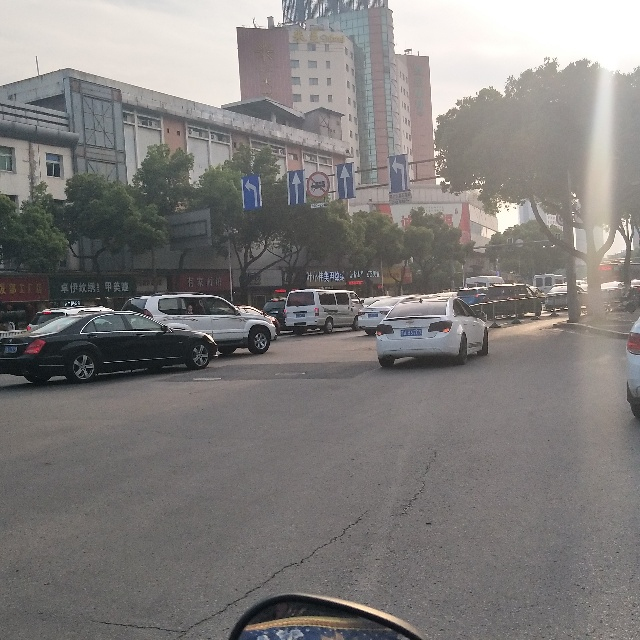left: (389, 152, 410, 195), (239, 175, 263, 211)
straight: (337, 162, 357, 200), (289, 170, 304, 205)
